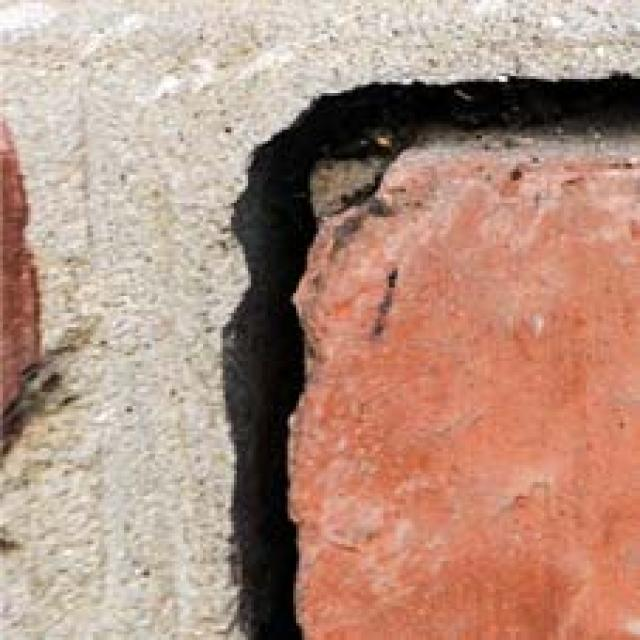Crack: (177, 70, 640, 639)
